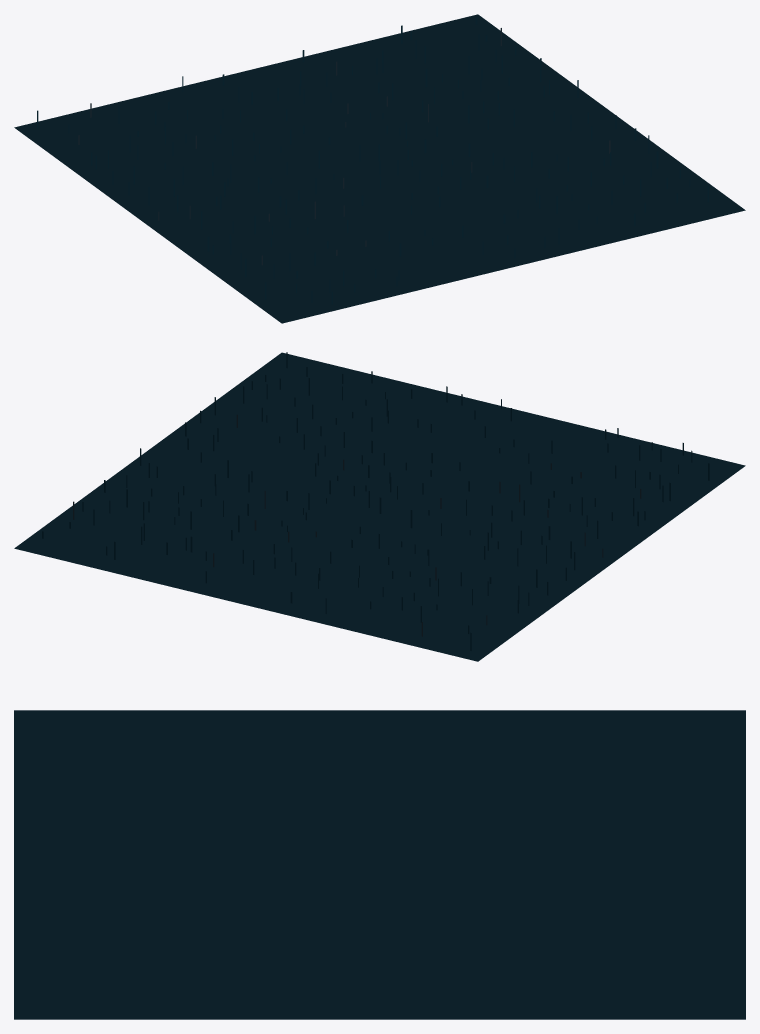
File: floor_v1_8.glb
3 renders of one model, top to bottom at view 1: azimuth 30°, elevation 25°; view 2: azimuth 150°, elevation 25°; view 3: azimuth 270°, elevation 25°, orthographic. The views are drawn at different scales.
Parts seen in each view (by area): view 1: slab_glass, dust_streaks; view 2: slab_glass, dust_streaks; view 3: slab_glass.
Part boxes in pixels (x1,y1,x2,y2): slab_glass: [14, 14, 745, 323]; dust_streaks: [37, 17, 708, 304]; slab_glass: [14, 352, 745, 661]; dust_streaks: [42, 352, 709, 650]; slab_glass: [14, 710, 745, 1019].
Size of the model in its own units: 8 by 0.3531 by 8.
